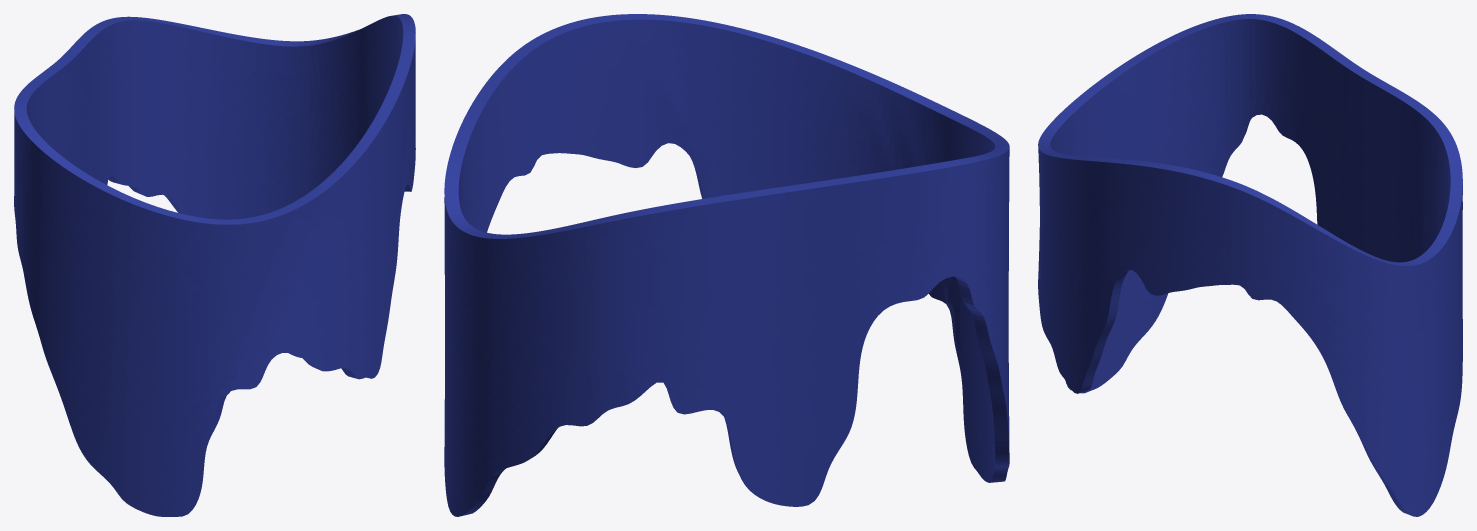
The model's file is Continuum_Ref.glb.
3 views of the same model, side by side, from view 1: azimuth 30°, elevation 25°; view 2: azimuth 150°, elevation 25°; view 3: azimuth 270°, elevation 25° (orthographic). The views are drawn at different scales.
Parts seen in each view (by area): view 1: Continuum_0; view 2: Continuum_0; view 3: Continuum_0.
Part boxes in pixels (box(x1,y1,x2,y2)): Continuum_0: box(14, 14, 415, 516); Continuum_0: box(444, 14, 1009, 516); Continuum_0: box(1038, 14, 1462, 516).
Size of the model in its own units: 0.293 by 0.2508 by 0.2705.
